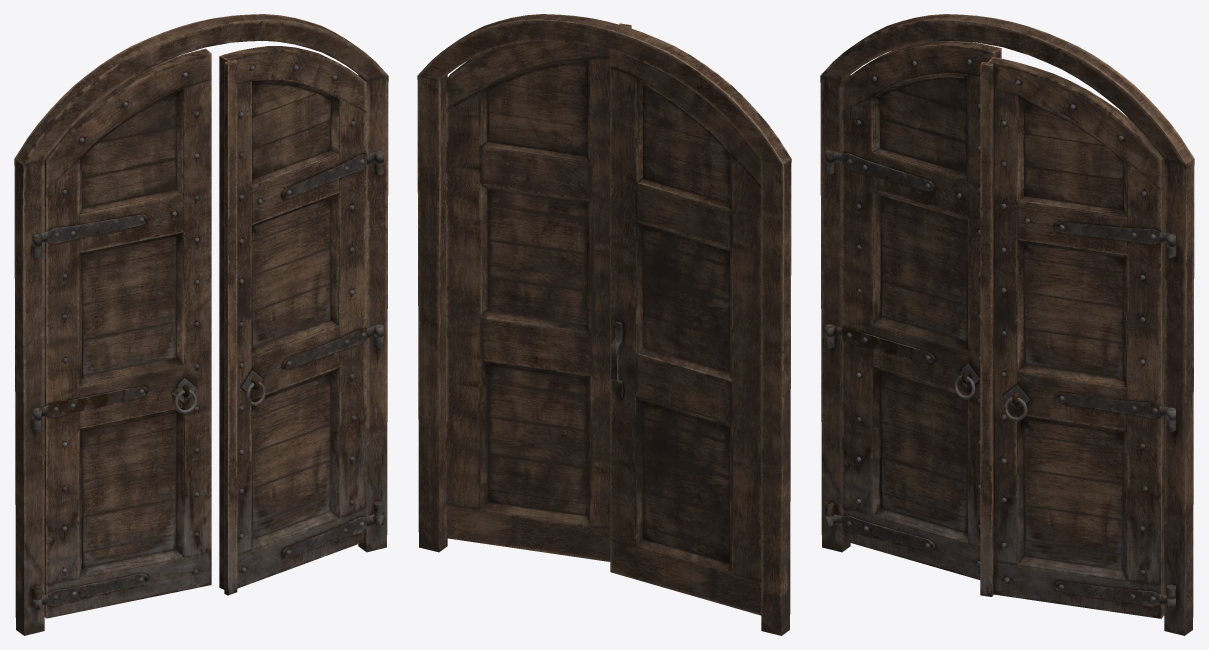
File: large_castle_door.glb
3 renders of one model, left to right at view 1: azimuth 30°, elevation 25°; view 2: azimuth 150°, elevation 25°; view 3: azimuth 330°, elevation 25°, orthographic.
Parts seen in each view (by area): view 1: large_castle_door_left, large_castle_door_right, large_castle_door_frame; view 2: large_castle_door_right, large_castle_door_left, large_castle_door_frame; view 3: large_castle_door_right, large_castle_door_left, large_castle_door_frame.
Part boxes in pixels (x1,y1,x2,y2): large_castle_door_left: (32, 48, 211, 618); large_castle_door_right: (219, 46, 383, 595); large_castle_door_frame: (14, 14, 388, 635); large_castle_door_right: (446, 23, 631, 561); large_castle_door_left: (610, 50, 761, 615); large_castle_door_frame: (417, 14, 791, 635); large_castle_door_right: (980, 57, 1175, 618); large_castle_door_left: (824, 41, 1001, 579); large_castle_door_frame: (820, 14, 1194, 635).
Bounding box in the file's own units: 2.01 × 2.96 × 0.2963.
Materials: 1 (1 with a texture image).
